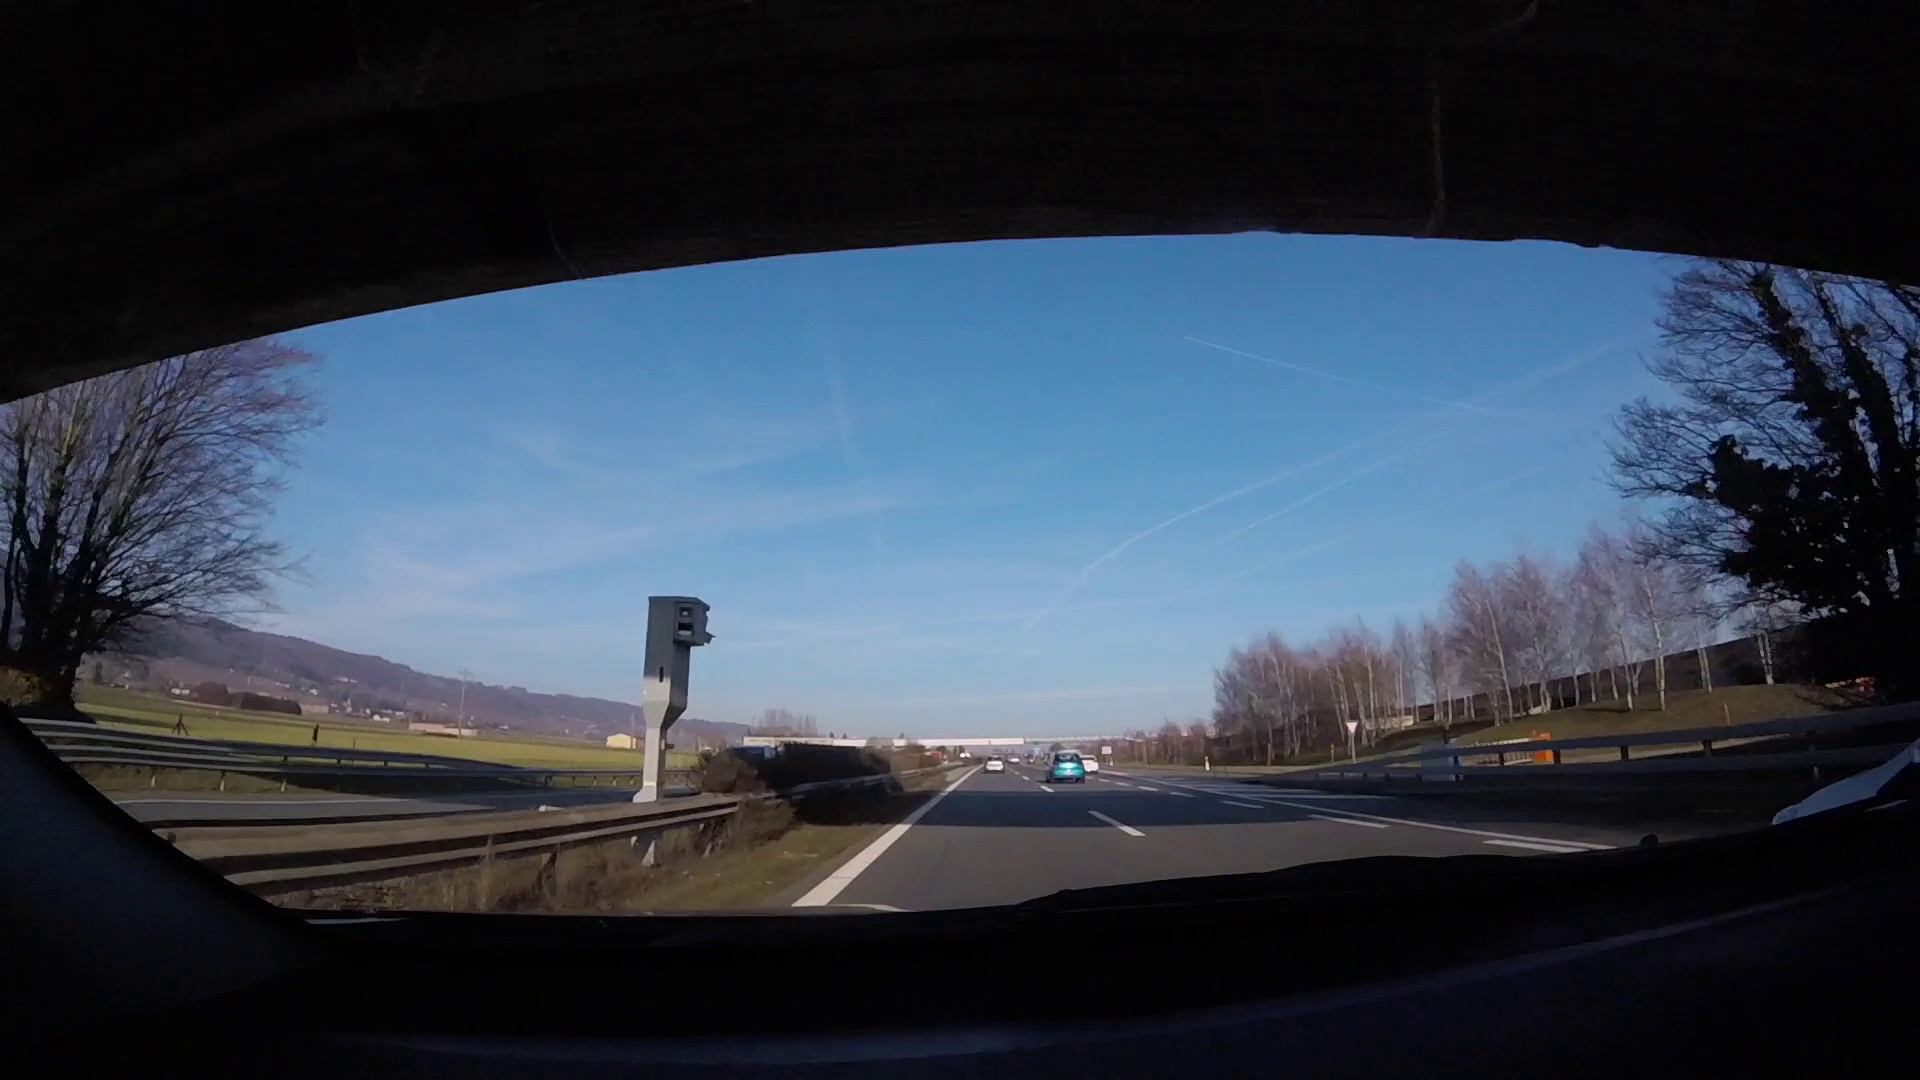radar: (644, 593, 716, 789)
